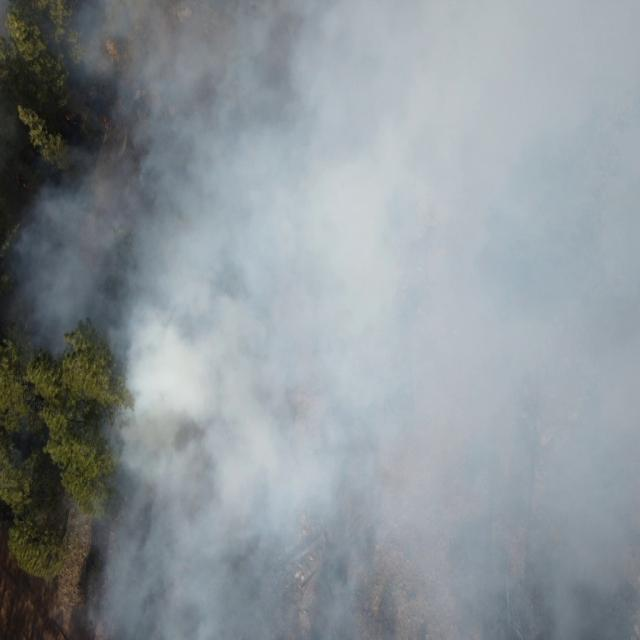smoke: (123, 0, 640, 640), (5, 154, 121, 351), (69, 1, 125, 111), (100, 409, 122, 640)
